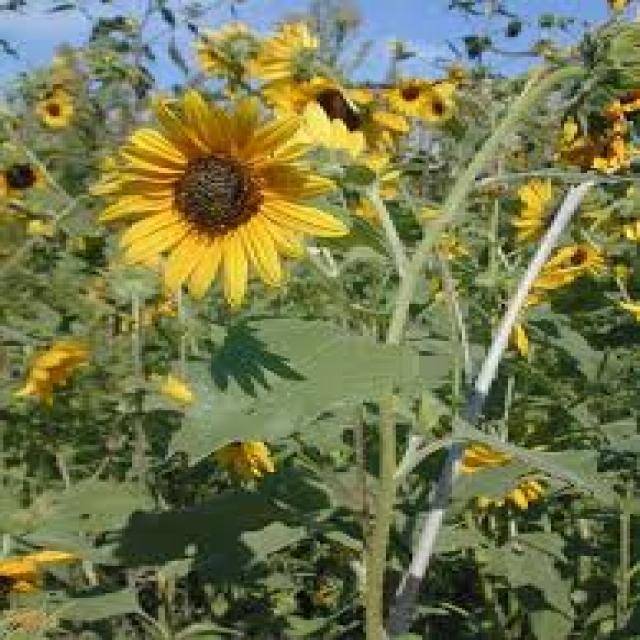sunflower: (86, 91, 359, 314), (154, 358, 286, 488), (241, 7, 346, 118), (444, 428, 562, 520), (541, 100, 638, 181), (488, 270, 575, 357), (12, 326, 92, 420), (0, 541, 105, 594), (183, 21, 273, 80), (509, 171, 567, 250), (543, 235, 608, 280), (0, 152, 51, 209), (414, 88, 469, 124), (29, 93, 81, 128), (392, 71, 435, 112), (600, 75, 640, 116)
